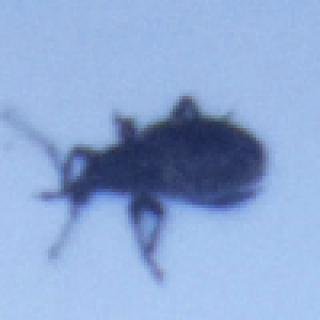bvw: (0, 94, 268, 288)
